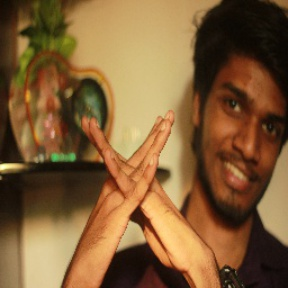W: (70, 104, 195, 276)
